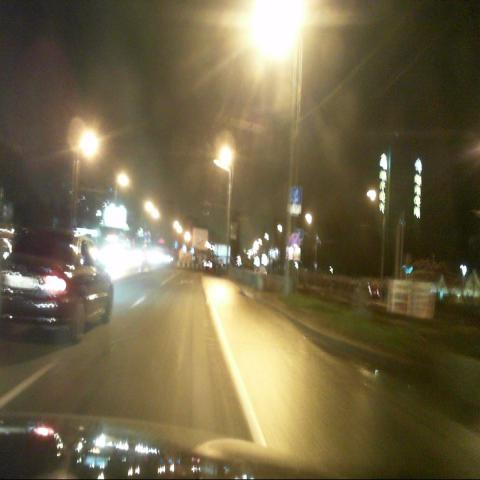3_27: (290, 234, 299, 252)
5_14: (290, 185, 301, 204)
